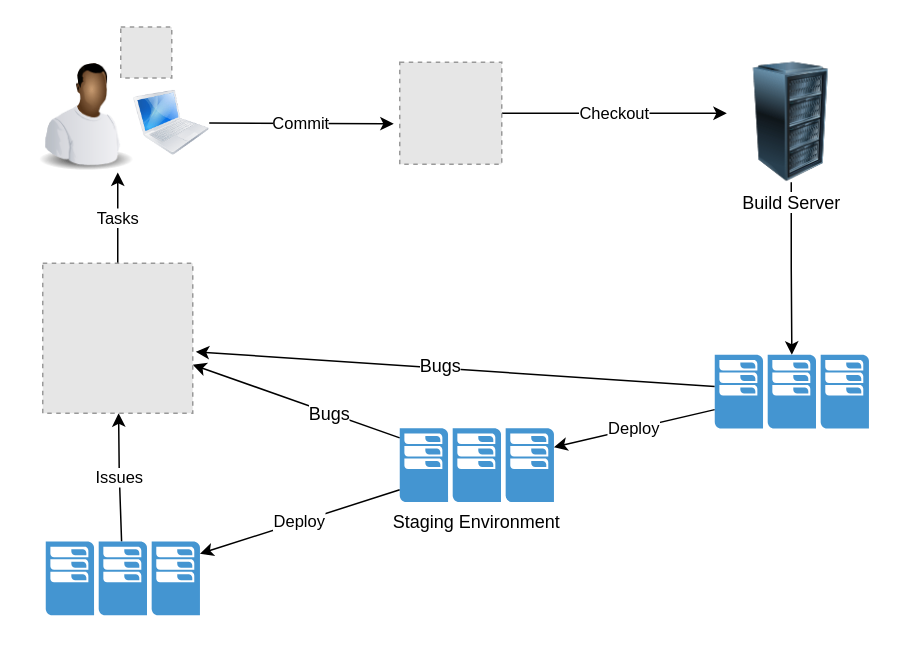
Image size: 899x672. Some labels were removed from this diagram. Grey dashed boxes stand in for pictures. Each missing label, with the centre of its shape:
Production Environment: (x=122, y=578)
Testing Environment: (x=791, y=391)
